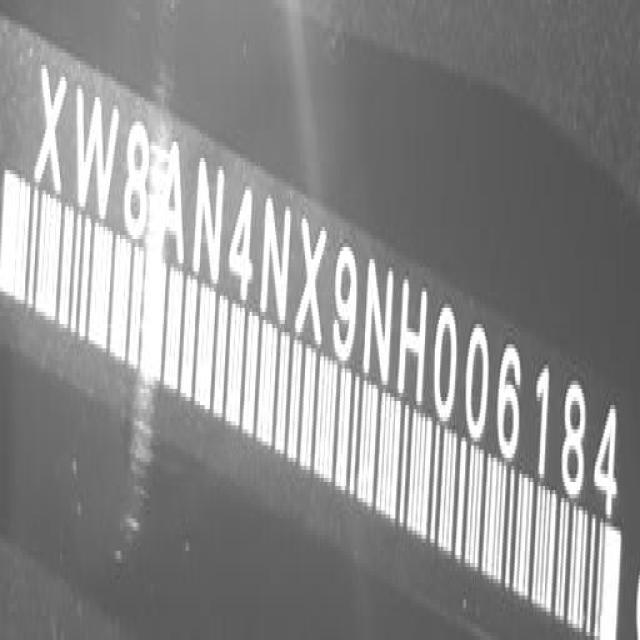0: (433, 300, 460, 422), (465, 321, 491, 444)
1: (532, 352, 550, 491)
4: (592, 399, 621, 519), (229, 186, 252, 306)
6: (496, 333, 522, 468)
8: (124, 119, 152, 248), (562, 368, 586, 504)
9: (332, 232, 358, 376)
A: (154, 140, 187, 270)
H: (397, 274, 431, 410)
N: (191, 153, 228, 296), (260, 196, 293, 332), (363, 251, 394, 391)
W: (74, 85, 122, 227)
X: (35, 57, 68, 198), (298, 204, 327, 354)
